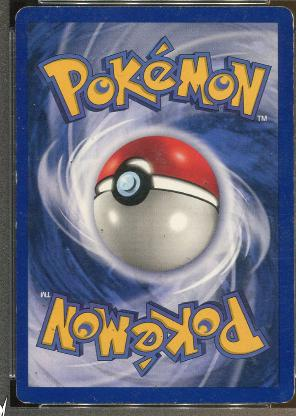Card: (10, 3, 294, 408)
Corner Wear: (14, 382, 38, 405)
Edge Wear: (289, 10, 294, 232), (13, 140, 18, 260), (202, 400, 285, 404), (99, 401, 177, 403), (289, 362, 293, 400), (49, 400, 84, 404), (15, 295, 17, 323)
Scratch: (44, 30, 54, 38)
